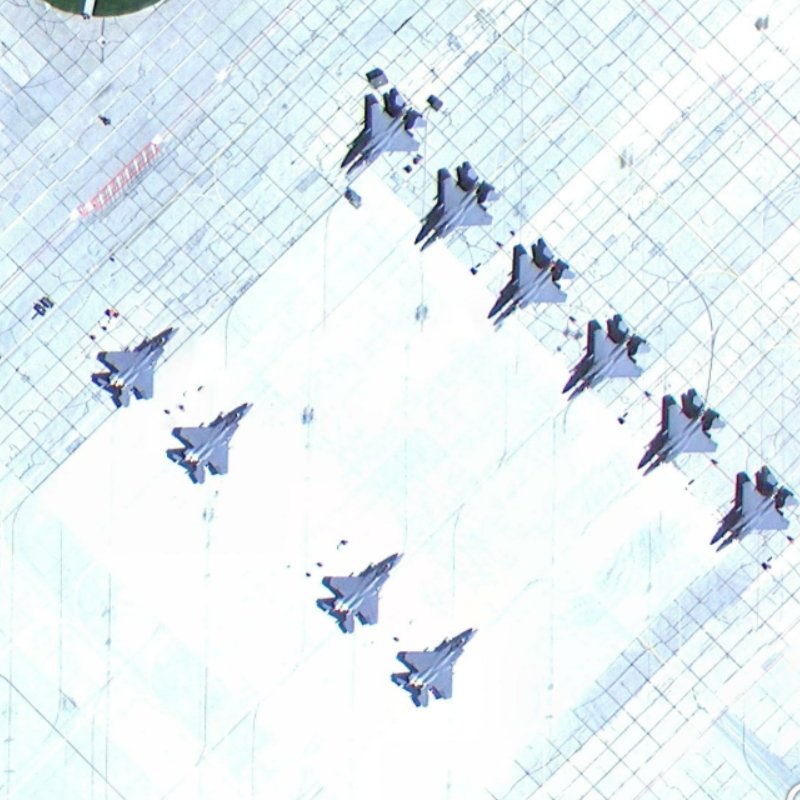A13: (307, 539, 414, 636), (80, 319, 187, 414), (554, 307, 656, 405), (632, 382, 728, 483), (383, 615, 480, 714), (333, 79, 426, 177), (706, 463, 800, 559), (162, 398, 260, 489), (407, 160, 500, 254), (486, 236, 571, 331)
